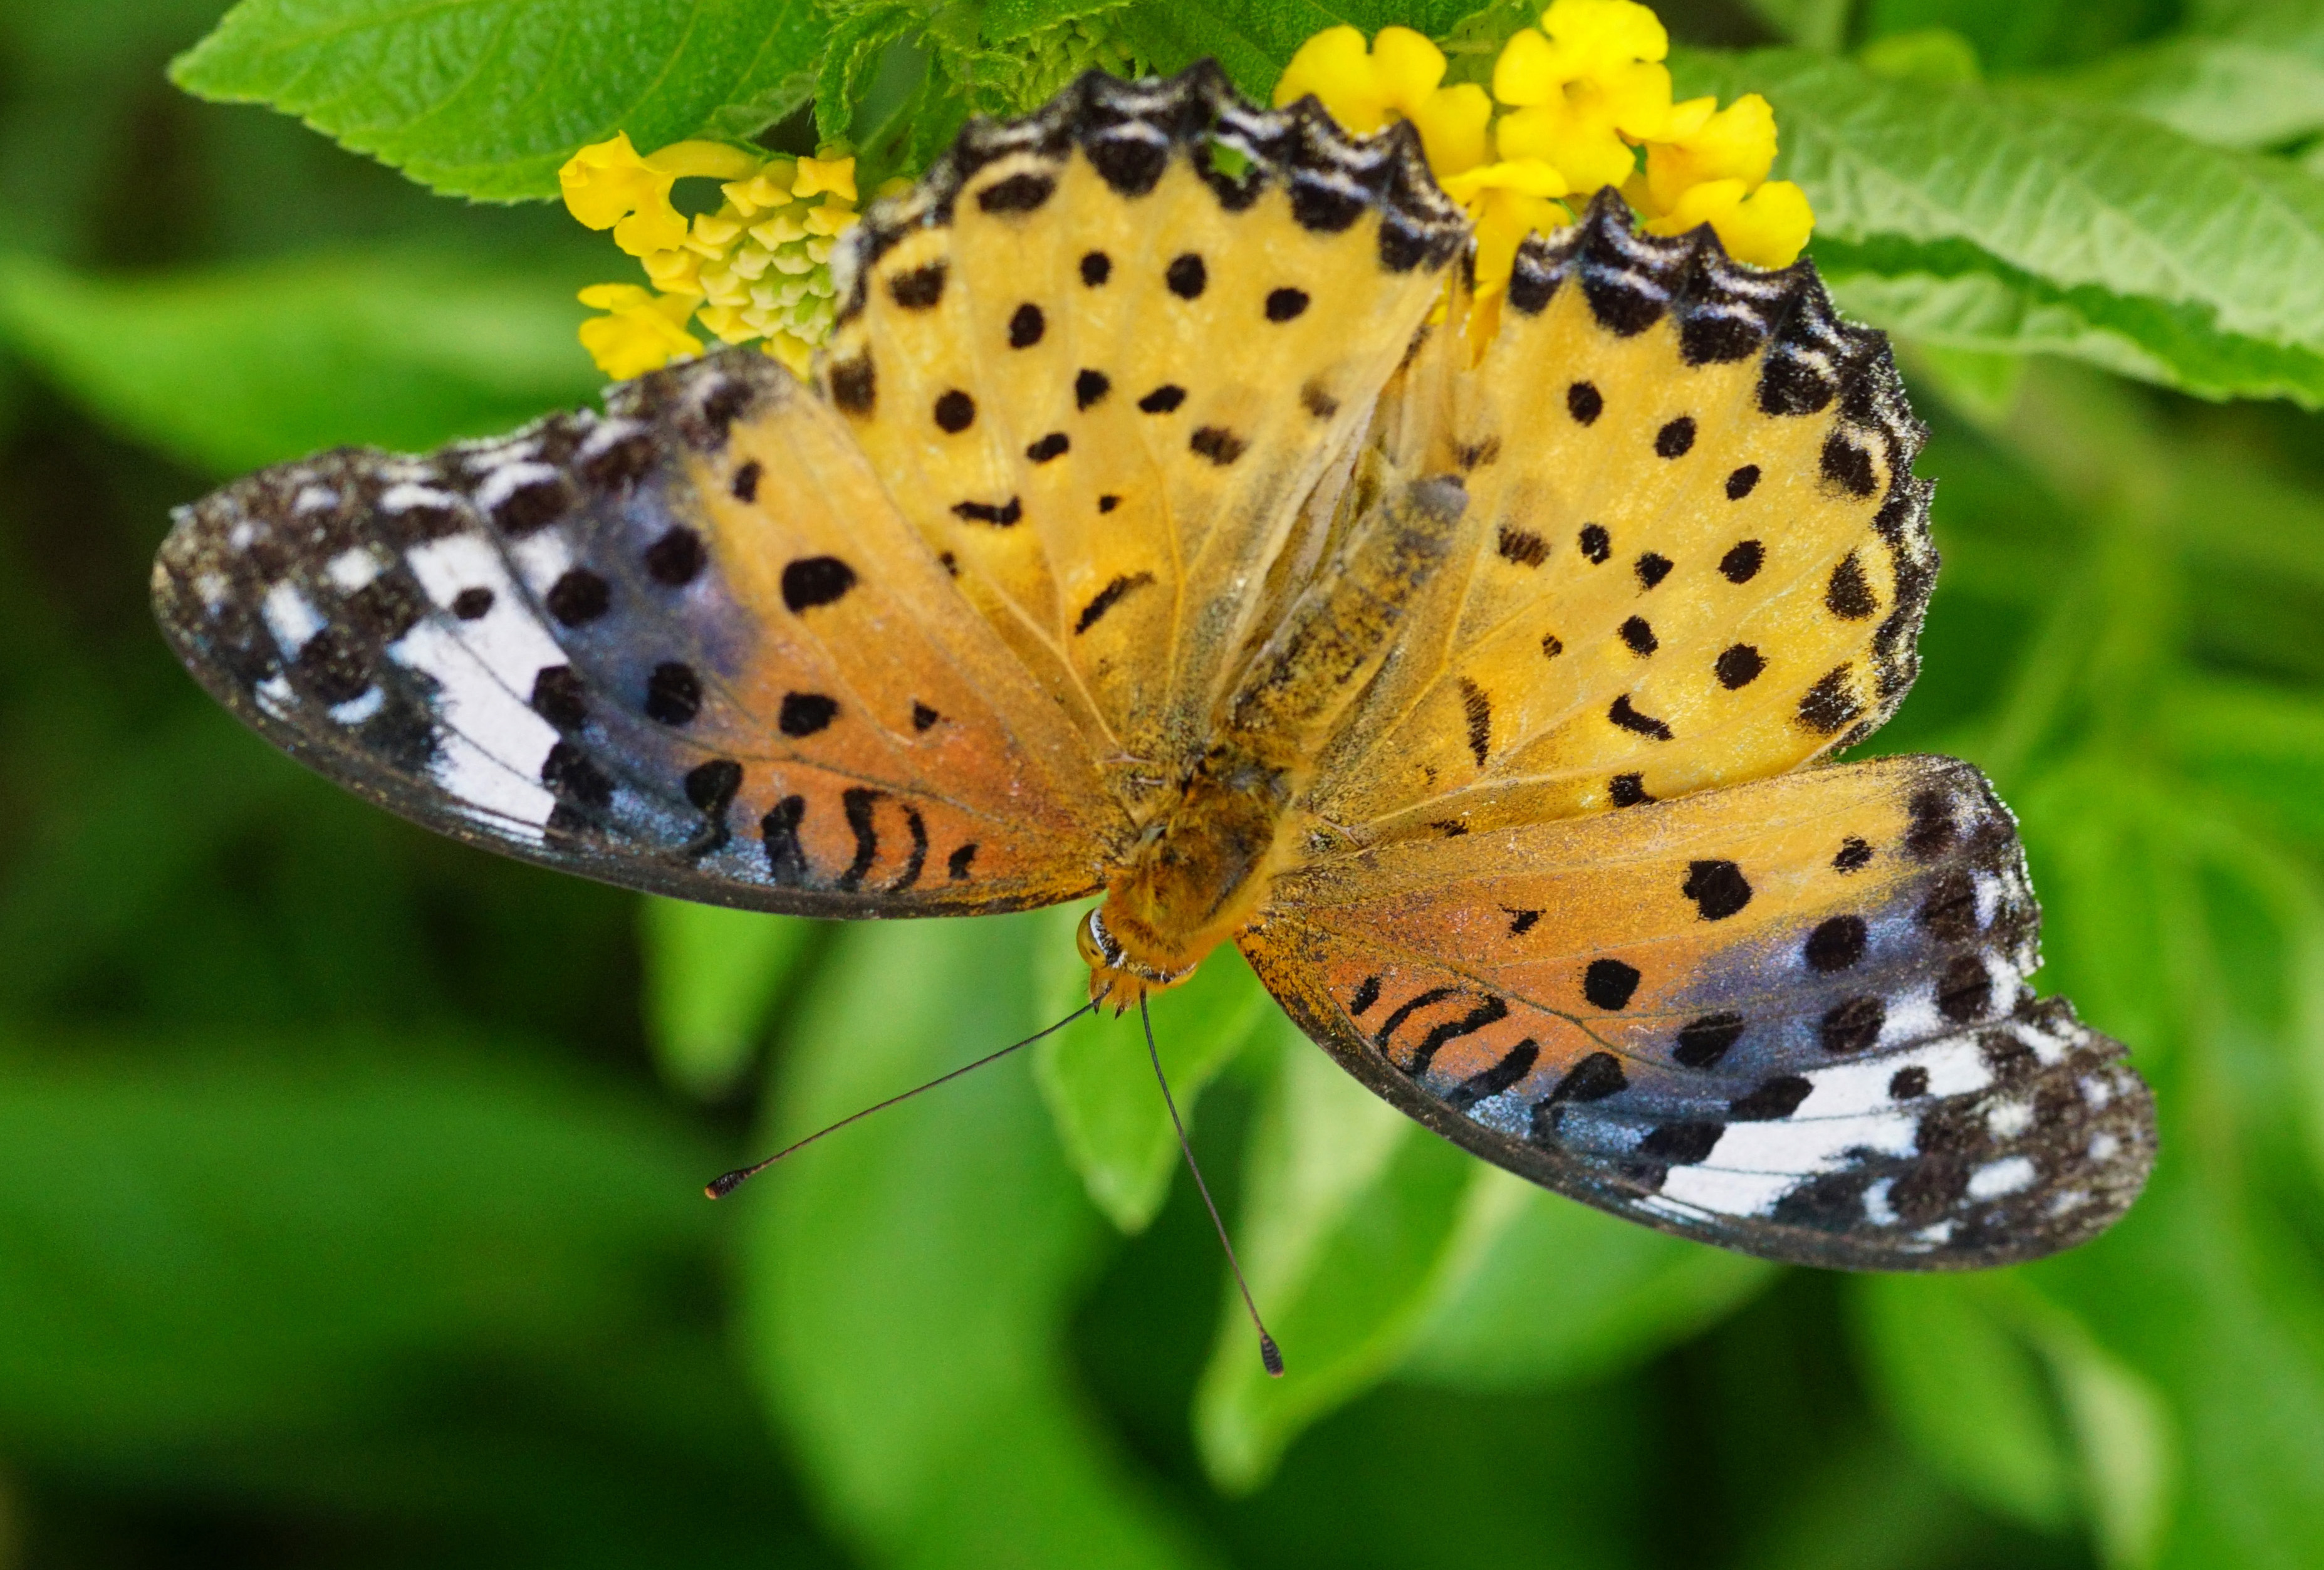Argyreus hyperbius: (124, 39, 2172, 1390)
butterfly: (126, 40, 2173, 1391)
